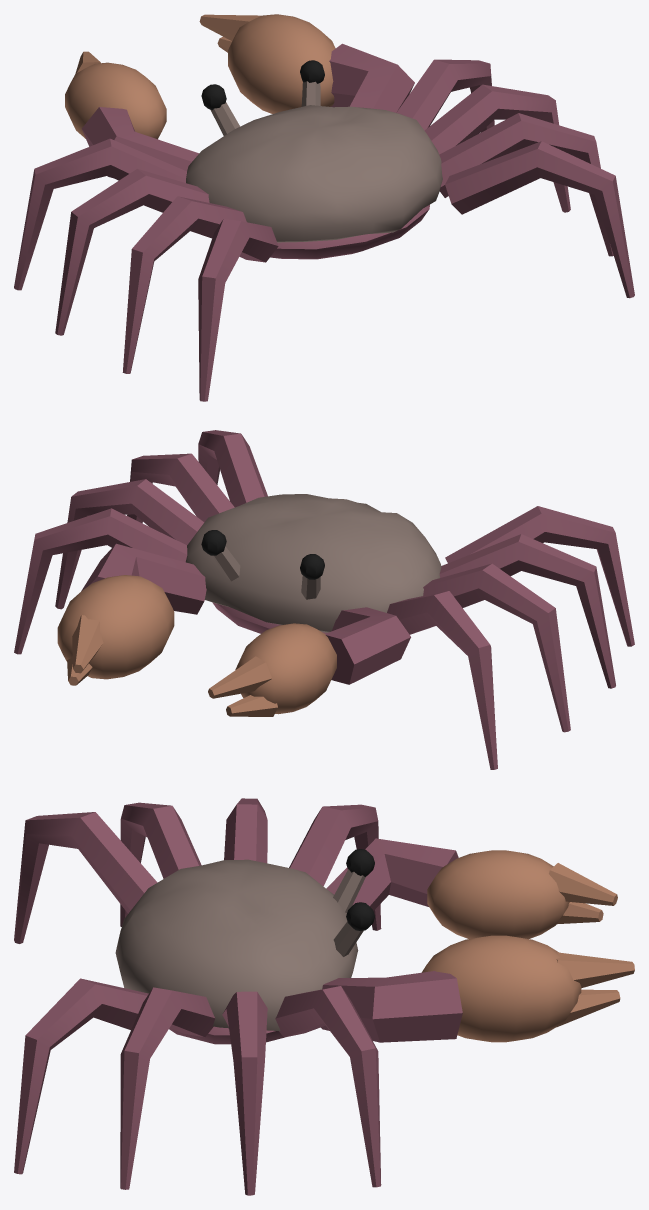
Rendered from caranguejo.glb.
The picture shows the model from 3 angles, top to bottom: view 1: azimuth 30°, elevation 25°; view 2: azimuth 150°, elevation 25°; view 3: azimuth 270°, elevation 25°; orthographic projection. The views are drawn at different scales.
Parts seen in each view (by area): view 1: caranguejo; view 2: caranguejo; view 3: caranguejo.
Boxes of the visible parts, x1,y1,x2,y2 form: caranguejo: [14, 14, 634, 401]; caranguejo: [14, 430, 634, 769]; caranguejo: [14, 798, 634, 1195].
Size of the model in its own units: 0.2714 by 0.0824 by 0.2559.
